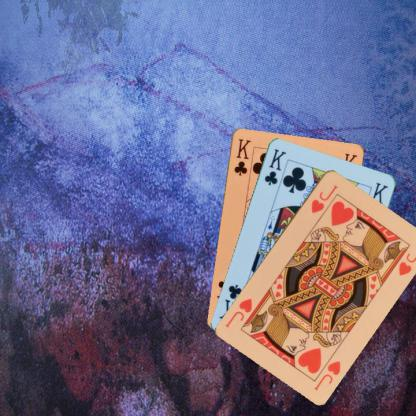Jh: (311, 358, 342, 391), (308, 182, 339, 214)
Kc: (261, 146, 288, 186), (231, 136, 252, 177)
